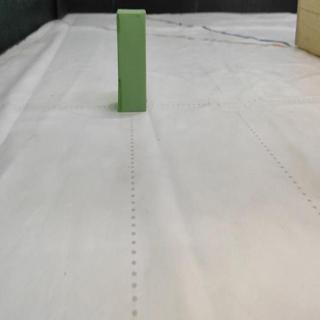greenbox: (115, 7, 148, 114)
